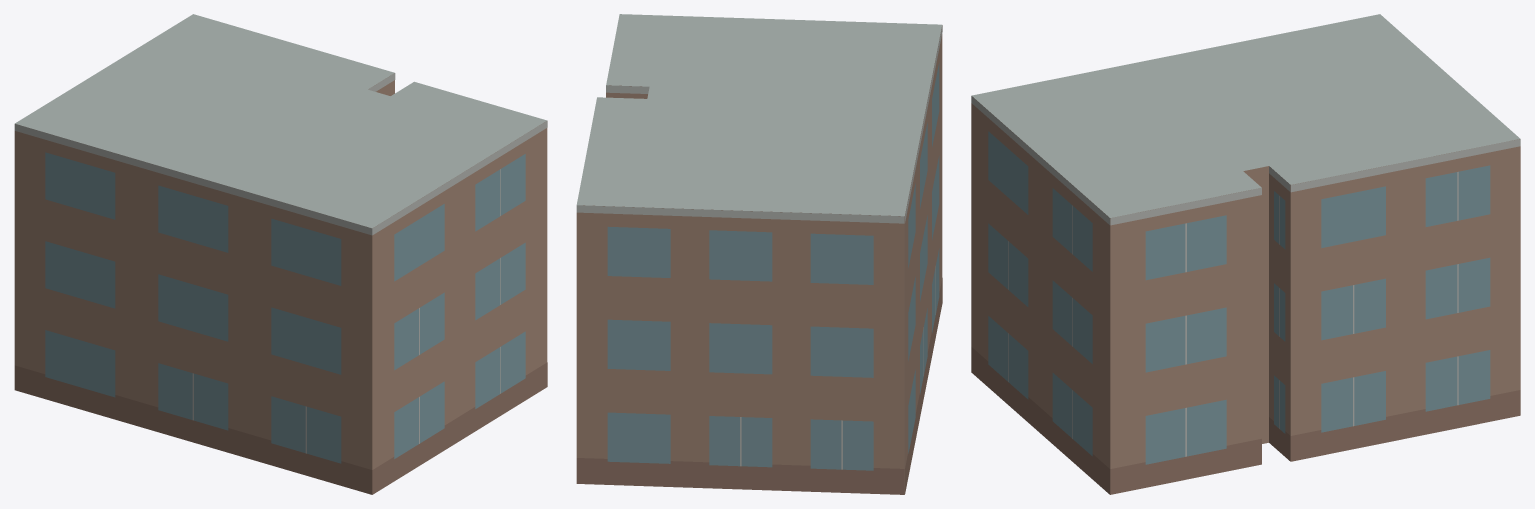
File: survey-upis-32743659.glb
The picture shows the model from 3 angles, left to right: view 1: azimuth 30°, elevation 25°; view 2: azimuth 150°, elevation 25°; view 3: azimuth 270°, elevation 25°; orthographic projection. The views are drawn at different scales.
Parts seen in each view (by area): view 1: survey-upis-32743659.tmp; view 2: survey-upis-32743659.tmp; view 3: survey-upis-32743659.tmp.
Boxes of the visible parts, box(x1,y1,x2,y2) form: survey-upis-32743659.tmp: box(14, 14, 547, 494); survey-upis-32743659.tmp: box(576, 14, 942, 494); survey-upis-32743659.tmp: box(971, 14, 1520, 494).
Size of the model in its own units: 14.48 by 9.15 by 16.46.
